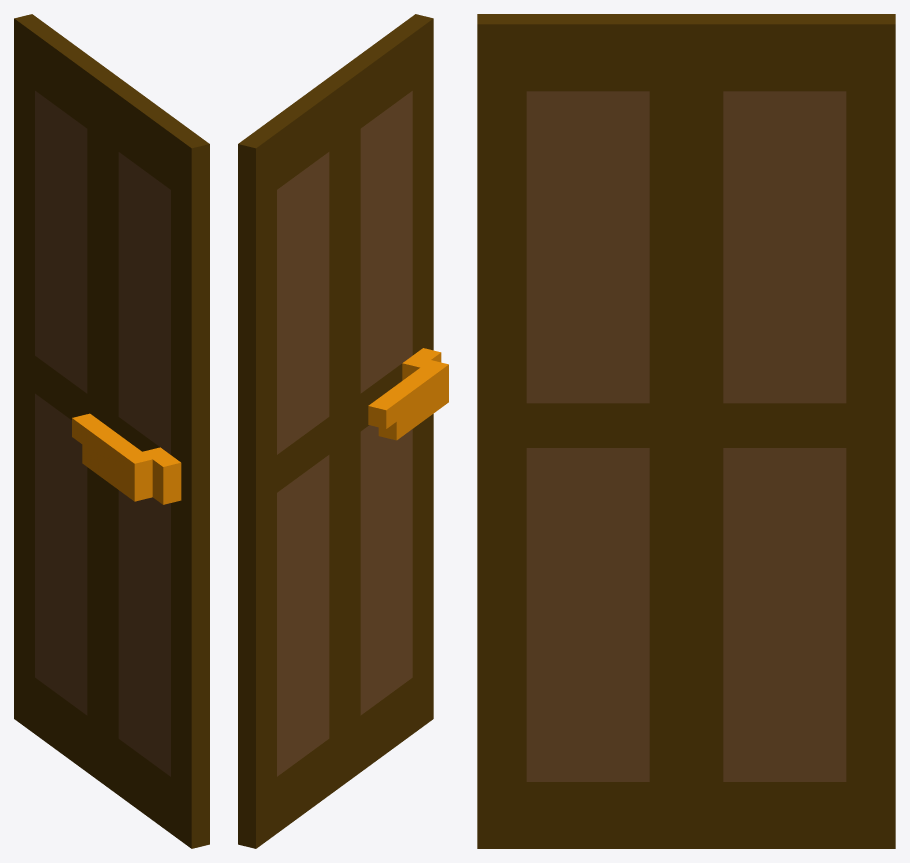
The model's file is F_Door.obj.
3 renders of one model, left to right at view 1: azimuth 30°, elevation 25°; view 2: azimuth 150°, elevation 25°; view 3: azimuth 270°, elevation 25°, orthographic. The views are drawn at different scales.
Size of the model in its own units: 0.3 by 3.7 by 1.7.
1 material, 1 textured.
